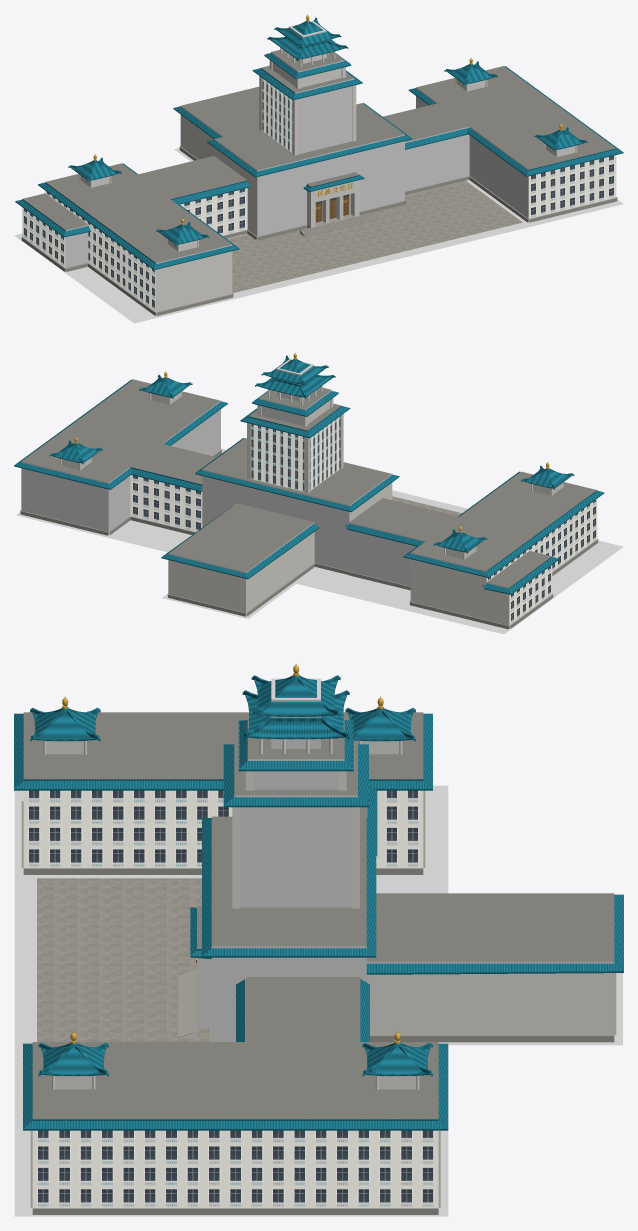
Rendered from minzugong.glb.
3 views of the same model, one above another, from view 1: azimuth 30°, elevation 25°; view 2: azimuth 150°, elevation 25°; view 3: azimuth 270°, elevation 25° (orthographic). The views are drawn at different scales.
Parts seen in each view (by area): view 1: Palace, Massing, COL_part0, CLEAR_front, COL_stage0, COL_part2, COL_part4, Crown, COL_part5, FOOTPRINT_forecourt; view 2: Palace, Massing, CLEAR_front, COL_part4, COL_part0, COL_part1, Crown, COL_stage1, CLEAR_hall; view 3: Palace, Massing, COL_stage0, CLEAR_front, COL_part0, Crown, COL_stage1, FOOTPRINT_forecourt, CLEAR_hall, Pavilion.0, Pavilion.1, COL_crown (+3 smaller).
Part boxes in pixels (x1,y1,x2,y2): Palace: [15, 49, 623, 315]; Massing: [75, 15, 580, 315]; COL_part0: [214, 134, 404, 239]; CLEAR_front: [14, 180, 623, 323]; COL_stage0: [295, 78, 354, 153]; COL_part2: [405, 126, 469, 191]; COL_part4: [416, 87, 529, 222]; Crown: [267, 14, 348, 67]; COL_part5: [64, 225, 88, 271]; FOOTPRINT_forecourt: [232, 189, 526, 294]; Palace: [14, 379, 604, 629]; Massing: [57, 353, 567, 628]; CLEAR_front: [16, 448, 623, 634]; COL_part4: [21, 401, 220, 535]; COL_part0: [202, 469, 392, 570]; COL_part1: [349, 522, 425, 586]; Crown: [255, 353, 335, 405]; COL_stage1: [258, 390, 331, 425]; CLEAR_hall: [162, 580, 298, 618]; Palace: [14, 712, 623, 1214]; Massing: [35, 664, 614, 1089]; COL_stage0: [234, 795, 357, 907]; CLEAR_front: [14, 785, 448, 1216]; COL_part0: [211, 946, 366, 1041]; Crown: [242, 663, 349, 753]; COL_stage1: [247, 759, 344, 789]; FOOTPRINT_forecourt: [31, 876, 201, 1043]; CLEAR_hall: [445, 973, 622, 1045]; Pavilion.0: [30, 696, 100, 754]; Pavilion.1: [38, 1031, 108, 1089]; COL_crown: [271, 678, 320, 748].
Size of the model in its own units: 183 by 67.3 by 108.
Materials: 14 (6 with a texture image).
